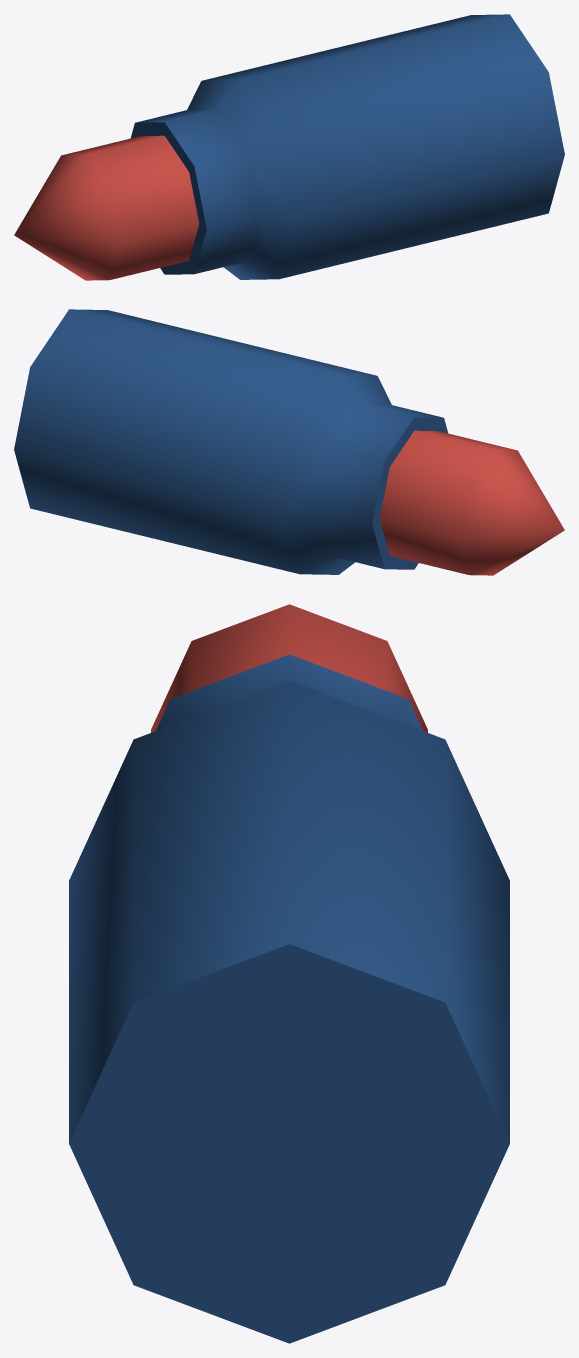
Rendered from pula_pulemet.fbx.
3 views of the same model, one above another, from view 1: azimuth 30°, elevation 25°; view 2: azimuth 150°, elevation 25°; view 3: azimuth 270°, elevation 25° (orthographic). The views are drawn at different scales.
Parts seen in each view (by area): view 1: wTube.009, wTube.010; view 2: wTube.009, wTube.010; view 3: wTube.009, wTube.010.
Boxes of the visible parts, box(x1,y1,x2,y2) form: wTube.009: box(131, 14, 564, 279); wTube.010: box(14, 135, 199, 280); wTube.009: box(14, 309, 447, 574); wTube.010: box(379, 430, 564, 575); wTube.009: box(69, 654, 509, 1343); wTube.010: box(151, 604, 427, 732).
Size of the model in its own units: 74.94 by 28.86 by 28.86.
